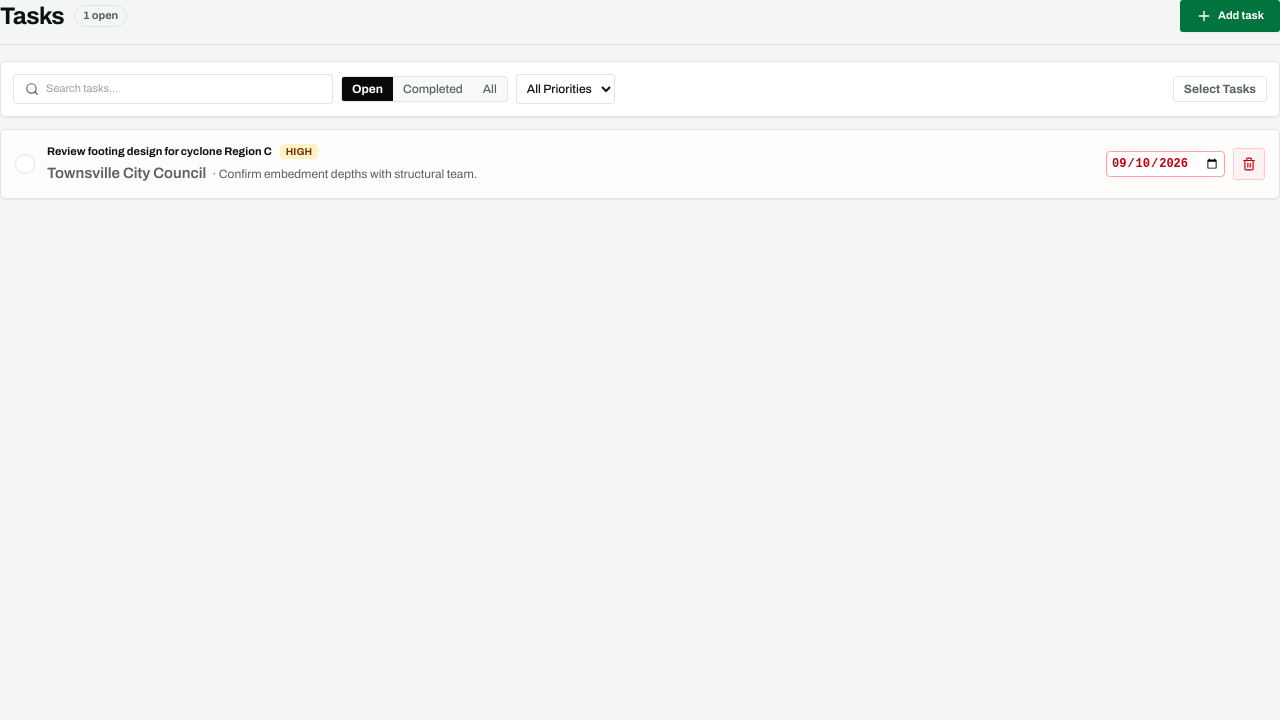
Scenario: CRM Leads, Tasks, Activity & Competitor Pricing Suite (Step 6) › deletes a task after explicit confirmation
What coordinates should you click on to do the following:
click the button named "Delete task Review footing design for cyclone Region C"
I would click on:
 (1249, 164)
Its box is [1233,148,1265,180].
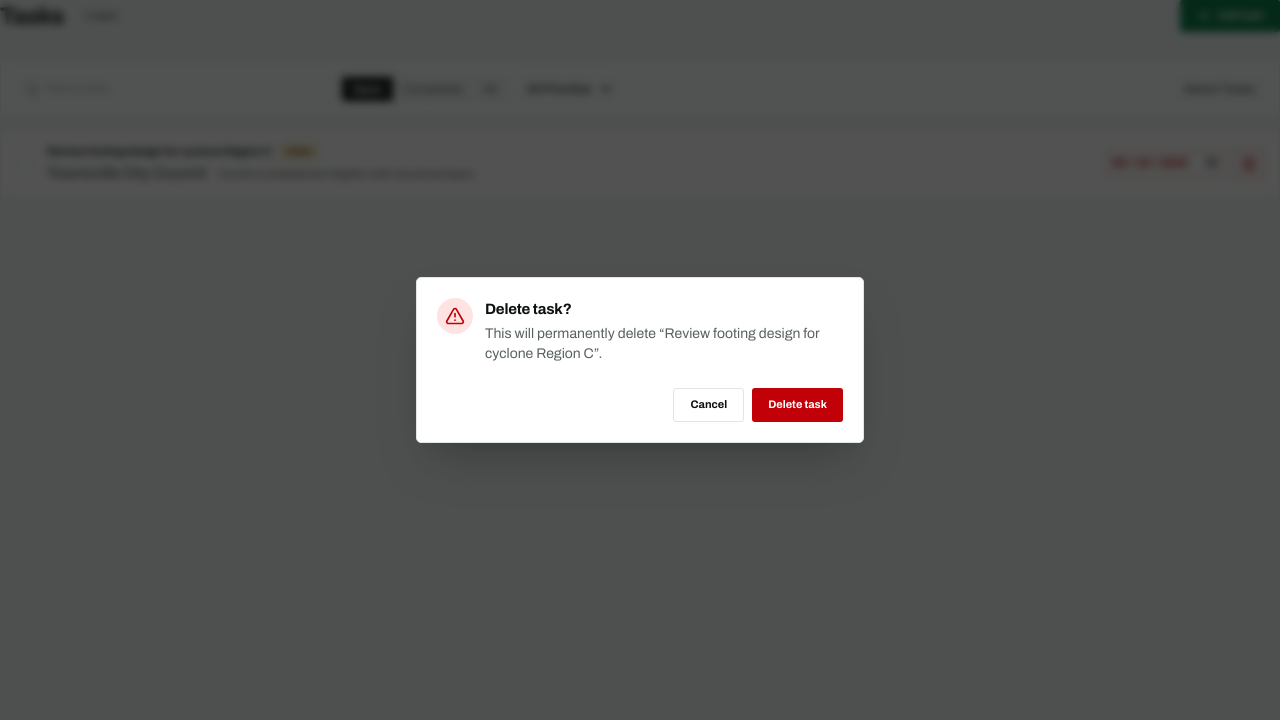
expect the dialog "Delete task?" is shown: met, box [416,277,864,443]
What coordinates should you click on to do the following:
click the button "Delete task"
I would click on:
 (798, 405)
Its box is [752,388,843,422].
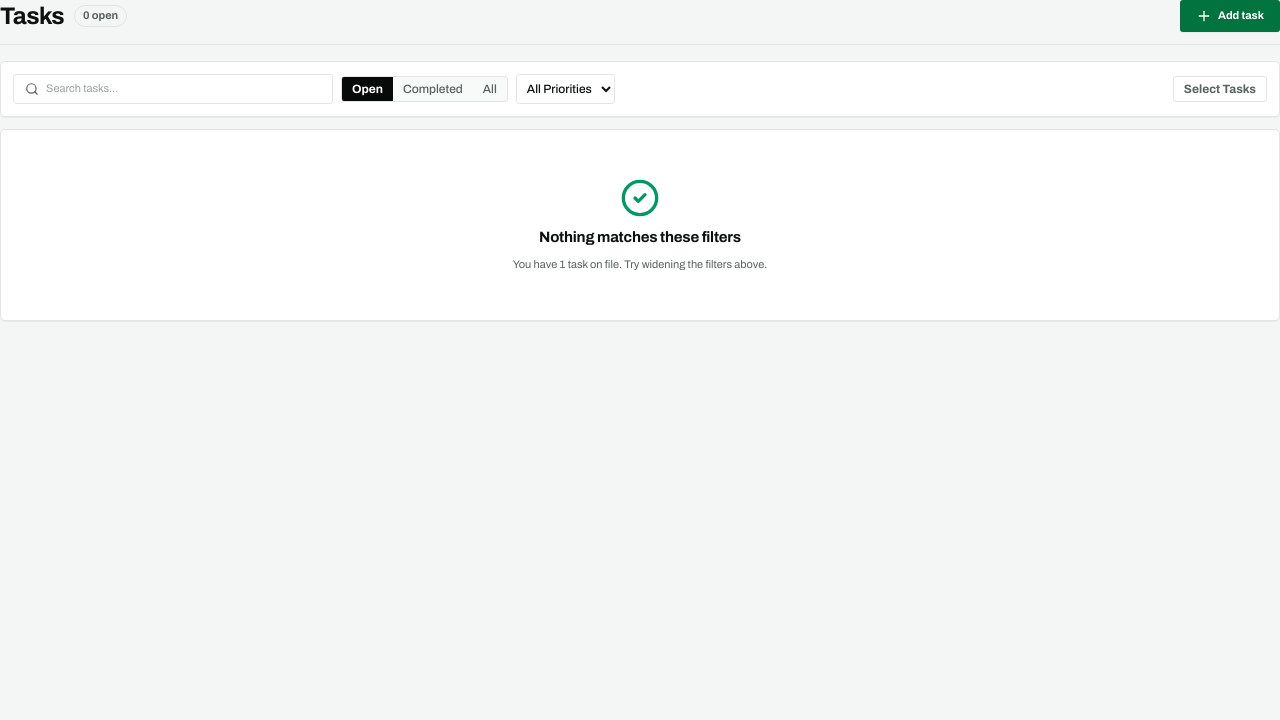
expect the text "Review footing design for cyclone Region C" is gone: met
